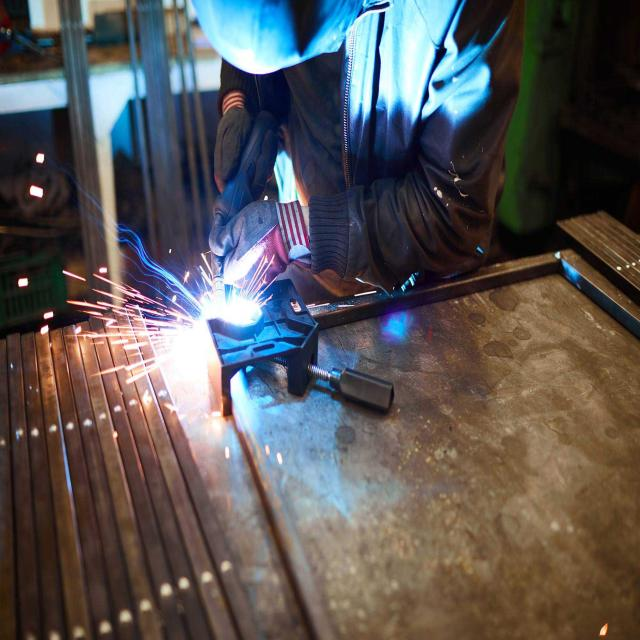welding: (208, 290, 265, 327), (173, 317, 208, 363)
